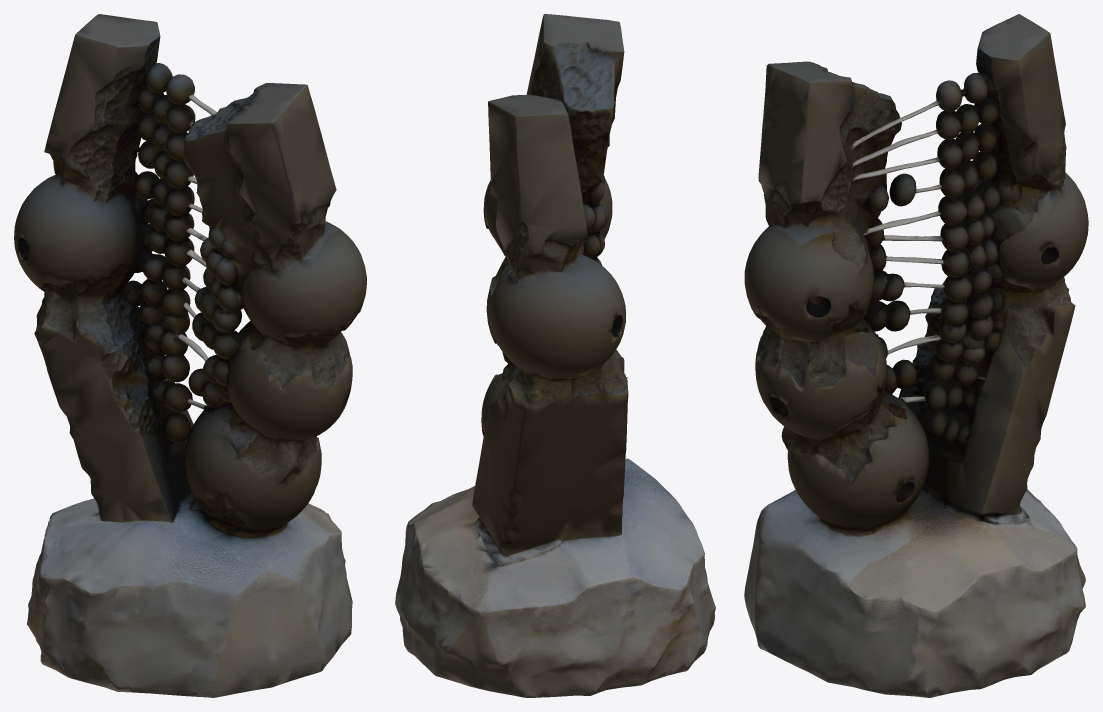
The model's file is accounting-cenotaph-low.glb.
3 renders of one model, left to right at view 1: azimuth 30°, elevation 25°; view 2: azimuth 150°, elevation 25°; view 3: azimuth 270°, elevation 25°, orthographic. The views are drawn at different scales.
Parts seen in each view (by area): view 1: tripo_node_cbad385c-4ec7-41cf-9f0c-e6860750f56e; view 2: tripo_node_cbad385c-4ec7-41cf-9f0c-e6860750f56e; view 3: tripo_node_cbad385c-4ec7-41cf-9f0c-e6860750f56e.
Boxes of the visible parts, <box> form: tripo_node_cbad385c-4ec7-41cf-9f0c-e6860750f56e: <box>14,14,366,697</box>; tripo_node_cbad385c-4ec7-41cf-9f0c-e6860750f56e: <box>395,14,715,697</box>; tripo_node_cbad385c-4ec7-41cf-9f0c-e6860750f56e: <box>744,14,1088,697</box>.
Size of the model in its own units: 0.5354 by 0.9998 by 0.5331.
Materials: 1 (1 with a texture image).
